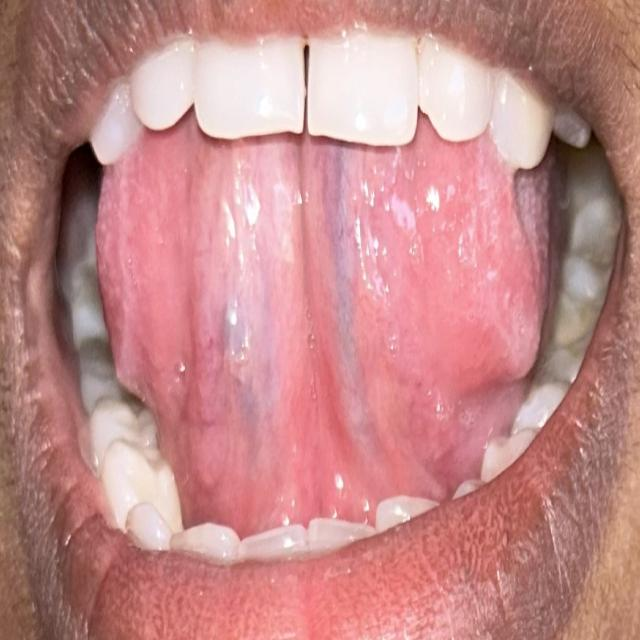processing_area: (98, 113, 548, 534)
